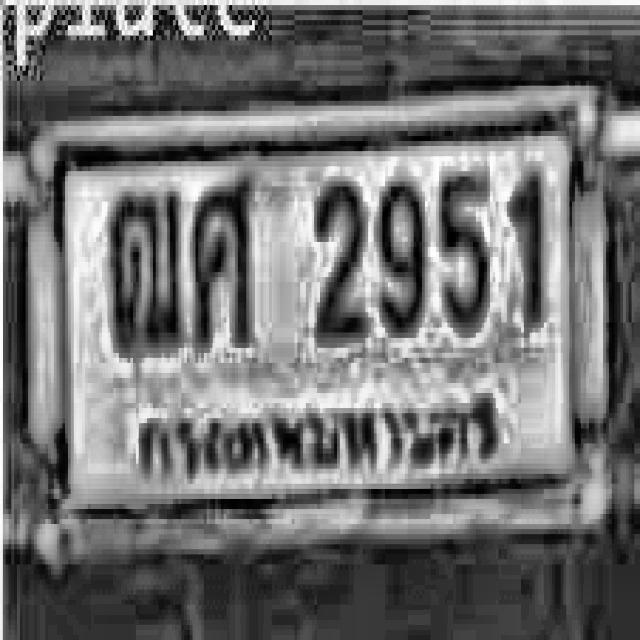license-plate: (31, 91, 616, 544)
